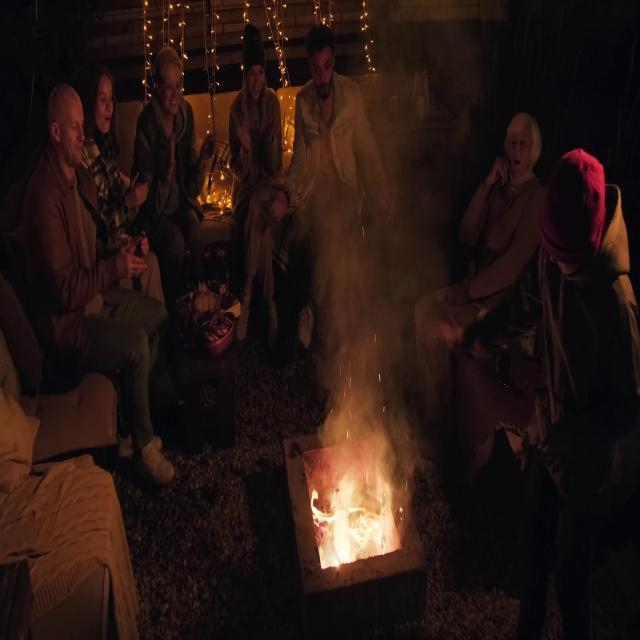Fire: (312, 467, 408, 560)
Smoke: (303, 69, 466, 404)
